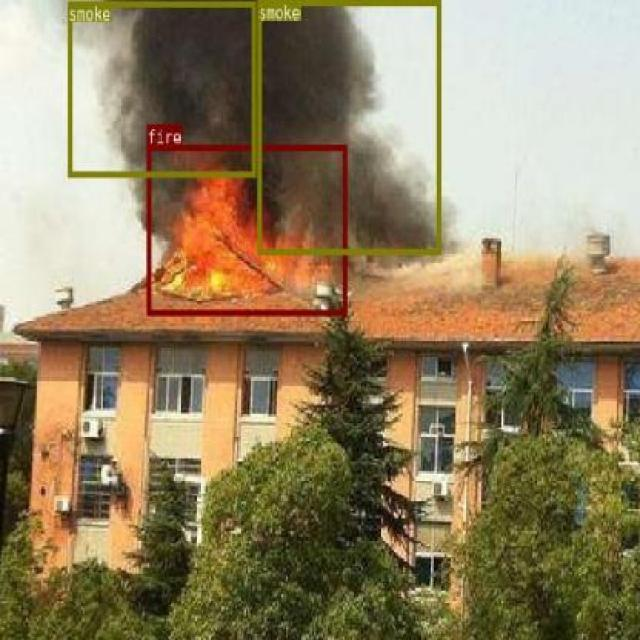CIV_Plane: (146, 143, 347, 314)
Fire: (146, 143, 347, 314)
Smoke: (288, 0, 409, 254), (35, 33, 159, 143)
